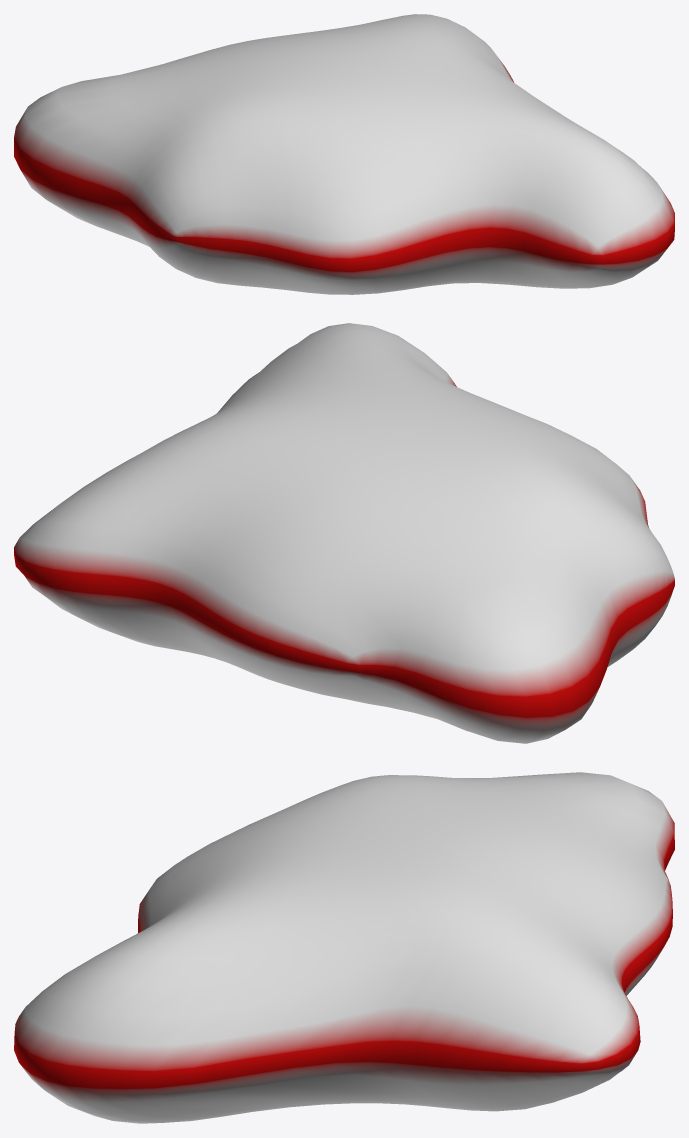
File: WaterPuddle_Quarter.fbx
3 views of the same model, one above another, from view 1: azimuth 30°, elevation 25°; view 2: azimuth 150°, elevation 25°; view 3: azimuth 270°, elevation 25° (orthographic). The views are drawn at different scales.
Parts seen in each view (by area): view 1: WaterPuddle_Quarter; view 2: WaterPuddle_Quarter; view 3: WaterPuddle_Quarter.
Part boxes in pixels (x1,y1,x2,y2): WaterPuddle_Quarter: [14, 14, 674, 294]; WaterPuddle_Quarter: [14, 323, 674, 743]; WaterPuddle_Quarter: [14, 772, 674, 1123].
Size of the model in its own units: 0.7996 by 0.3084 by 0.8399.
